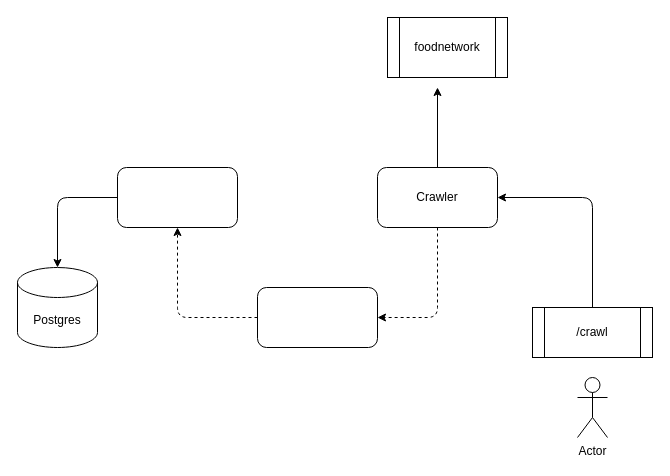
The diagram is 670 pixels wide and 476 high, and some of its shapes have lost their labels. The centre of each missing label's shape, as x and y in pixels:
"RabbitMQ" goes at point (317, 317).
"Storefront" goes at point (177, 197).
